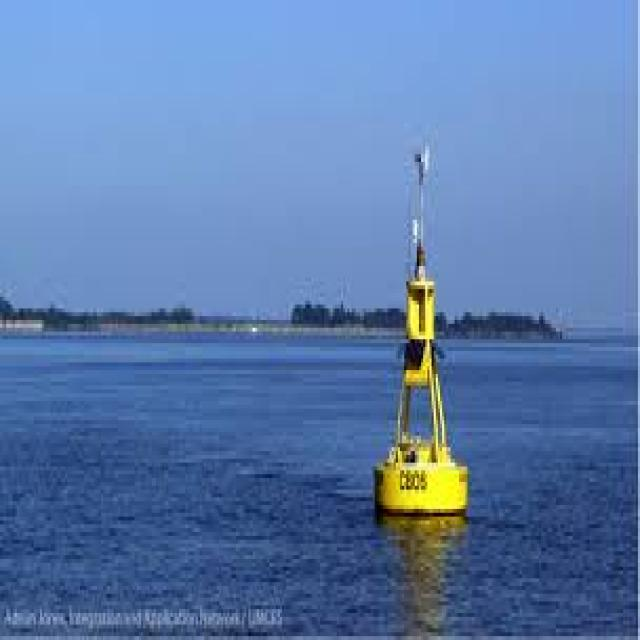marque: (356, 120, 492, 519)
